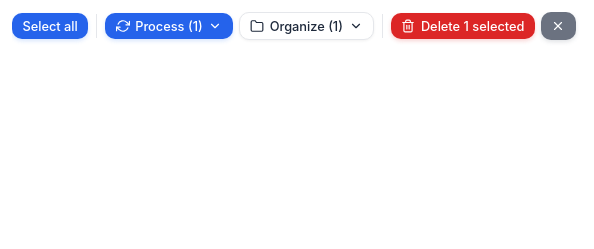
Test: GallerySelectionActions — bulk tag entries › enables them once a file is selected
The width and height of the screenshot is (594, 249).
Click the button titled "Add to collection or export transcripts for selected files".
click(306, 26)  # box [239,12,374,40]
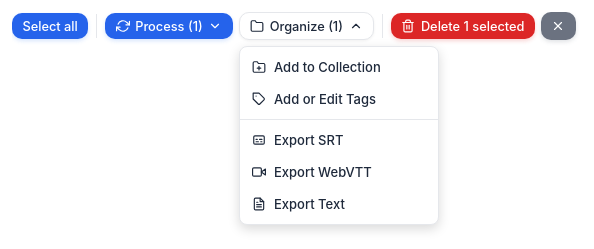
Expected: the button "Add to Collection" is enabled, [240,51,438,83]
Expected: the button "Add or Edit Tags" is enabled, [240,83,438,115]
